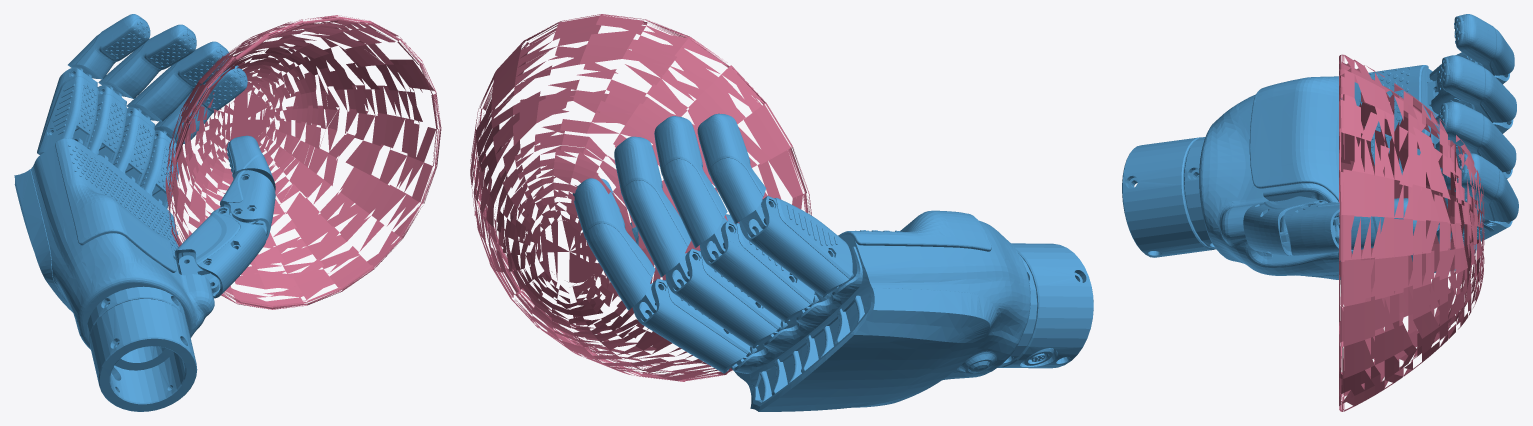
3 views of the same model, side by side, from view 1: azimuth 30°, elevation 25°; view 2: azimuth 150°, elevation 25°; view 3: azimuth 270°, elevation 25° (orthographic). The views are drawn at different scales.
Visible parts, largest first — view 1: 9; view 2: 9; view 3: 9.
Part boxes in pixels (x1,y1,x2,y2): 9: (14,14,441,411); 9: (470,14,1093,411); 9: (1122,14,1518,411).
Size of the model in its own units: 0.2426 by 0.1584 by 0.1748.
